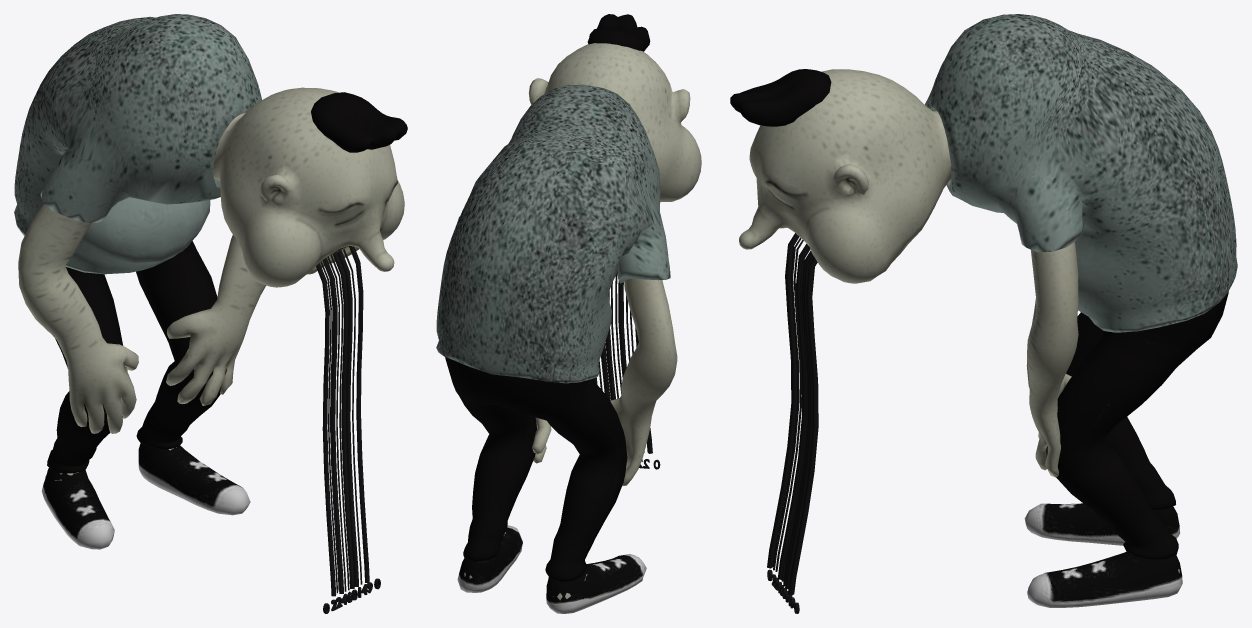
The model's file is VomitPerson.glb.
3 views of the same model, side by side, from view 1: azimuth 30°, elevation 25°; view 2: azimuth 150°, elevation 25°; view 3: azimuth 270°, elevation 25° (orthographic). The views are drawn at different scales.
Parts seen in each view (by area): view 1: HumanVomit; view 2: HumanVomit; view 3: HumanVomit.
Part boxes in pixels (x1,y1,x2,y2): HumanVomit: (14,14,407,613); HumanVomit: (436,14,701,613); HumanVomit: (730,14,1237,613).
Bounding box in the file's own units: 0.7036 × 1.27 × 1.07.
3 materials, 2 textured.
